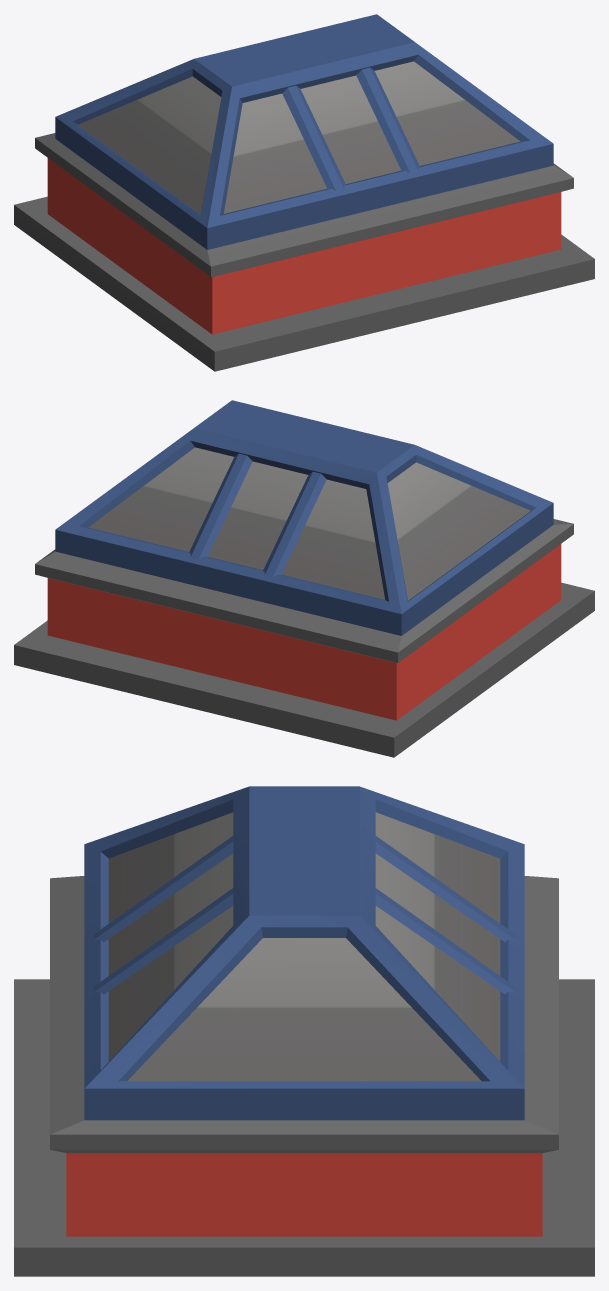
Rendered from RoofLights_4_A.fbx.
3 renders of one model, top to bottom at view 1: azimuth 30°, elevation 25°; view 2: azimuth 150°, elevation 25°; view 3: azimuth 270°, elevation 25°, orthographic. The views are drawn at different scales.
Visible parts, largest first — view 1: RoofLights_4_A; view 2: RoofLights_4_A; view 3: RoofLights_4_A.
Boxes of the visible parts, left/top/right/bottom form: RoofLights_4_A: left=14, top=14, right=594, bottom=371; RoofLights_4_A: left=14, top=400, right=594, bottom=757; RoofLights_4_A: left=14, top=786, right=594, bottom=1276.
Bounding box in the file's own units: 216 × 109 × 198.
